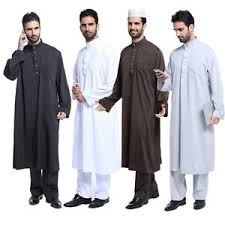middle_eastern_male: (172, 16, 197, 53), (21, 15, 44, 45), (129, 16, 151, 41), (79, 12, 97, 40)
